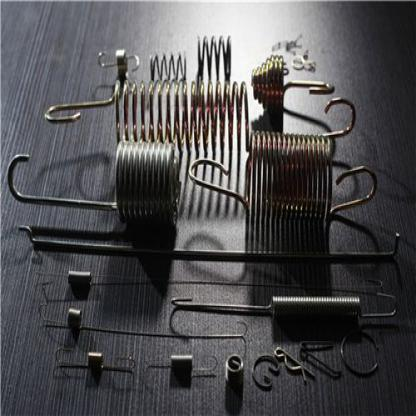FOD: (44, 77, 356, 148), (187, 148, 380, 228), (6, 137, 182, 222), (169, 286, 398, 320), (250, 51, 335, 116), (53, 348, 135, 375), (196, 30, 235, 76), (146, 50, 188, 80), (96, 47, 139, 73)
